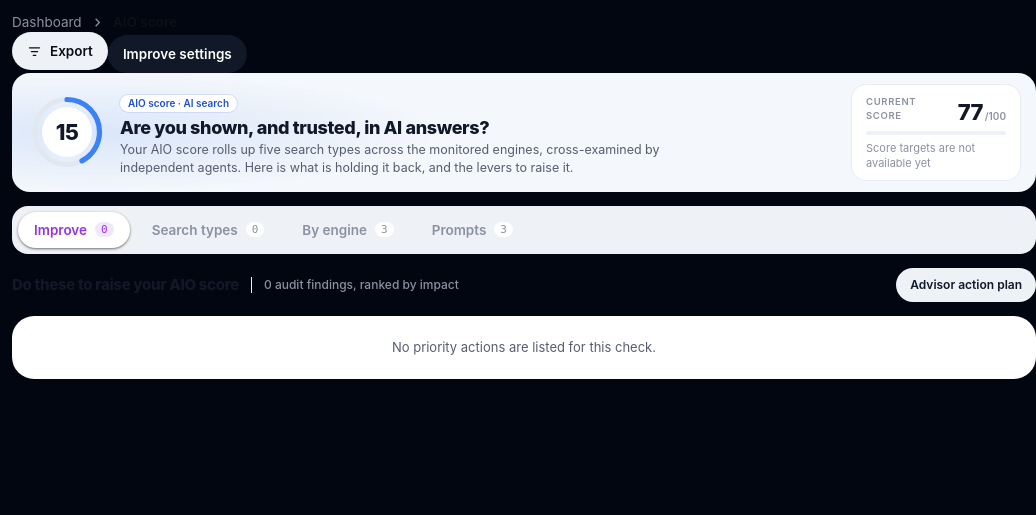
Scenario: ProjectAeoPage (approved AIO detail) › renders measured provider rows on the By engine tab without inventing a status
Click the tab "By engine 3" at (348, 230), box [286,212,410,248]
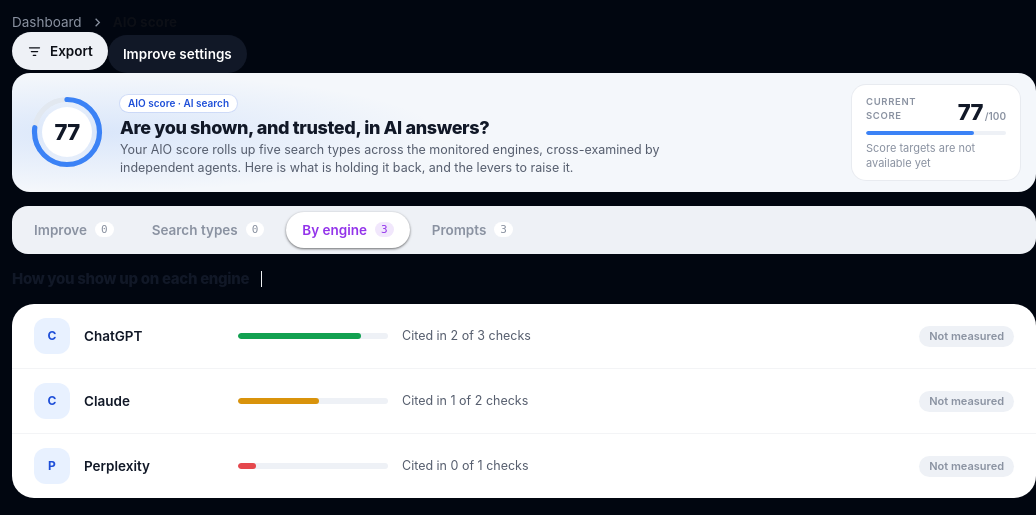
Expected: the text "ChatGPT" is shown, [84,328,142,344]
Expected: the text "Claude" is shown, [84,393,130,409]
Expected: the text "Perplexity" is shown, [84,458,150,474]
